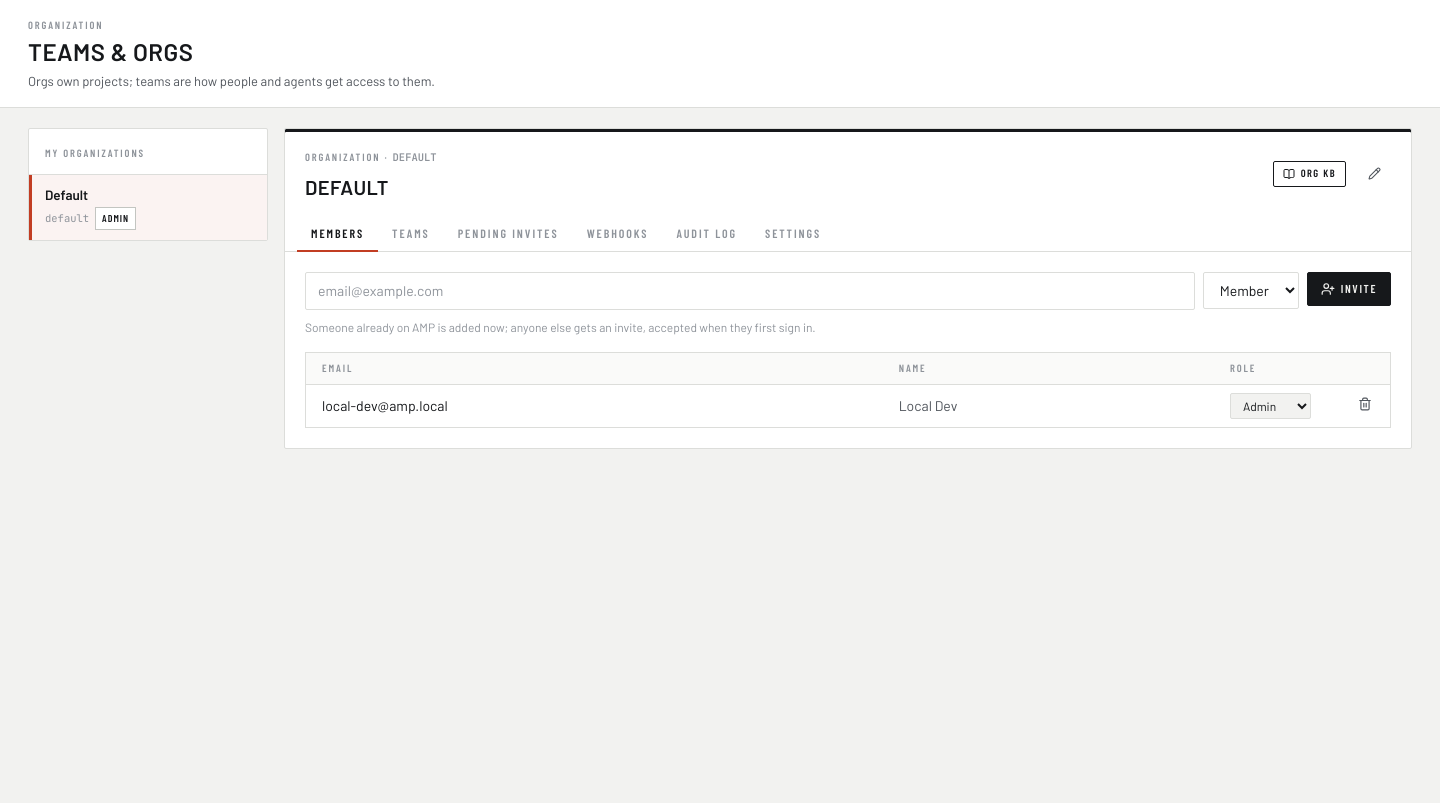
Teams & orgs > Inbox access (AMP #4877) › a team lead opens the panel from their own team’s row
This screenshot has width=1440, height=803.
Click the button "teams" at (411,233), box x1=378 y1=214 x2=444 y2=252
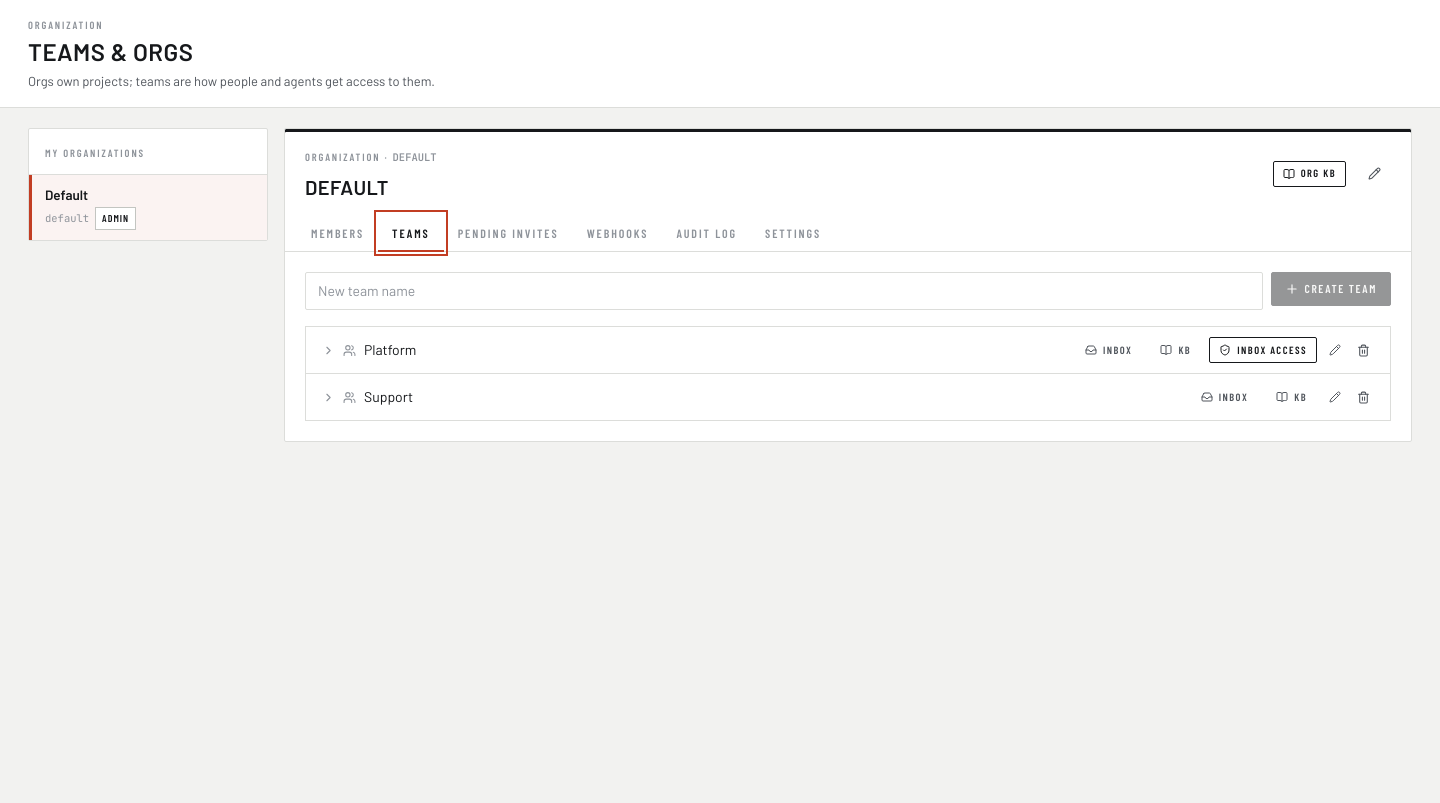
Click the button "Inbox access" at (1263,350), box x1=1209 y1=337 x2=1317 y2=363
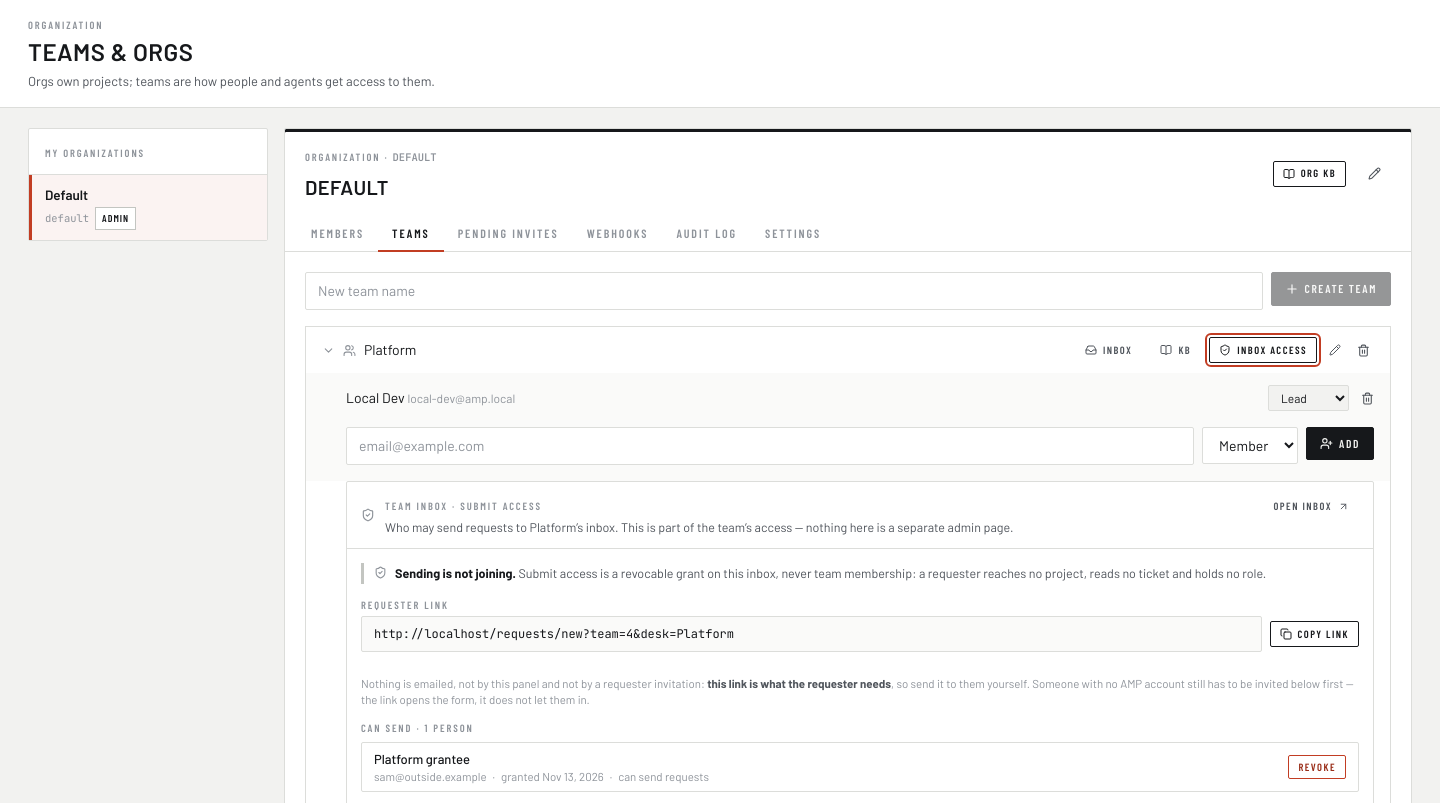
Expected: the text "Platform grantee" is shown, x1=374 y1=751 x2=470 y2=767
